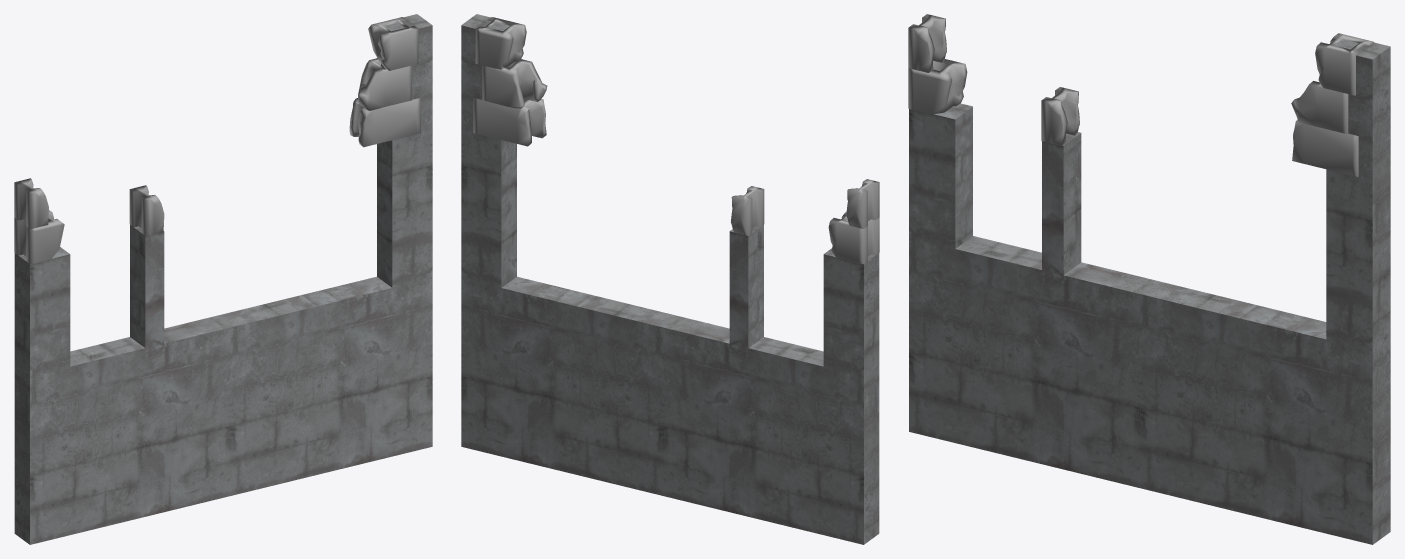
Rendered from wall_3window_01_Broken_02.fbx.
3 views of the same model, side by side, from view 1: azimuth 30°, elevation 25°; view 2: azimuth 150°, elevation 25°; view 3: azimuth 330°, elevation 25° (orthographic). The views are drawn at different scales.
Visible parts, largest first — view 1: wall_3window_01_Broken_02; view 2: wall_3window_01_Broken_02; view 3: wall_3window_01_Broken_02.
Part boxes in pixels (bbox=[...]): wall_3window_01_Broken_02: bbox=[14, 14, 432, 544]; wall_3window_01_Broken_02: bbox=[461, 14, 879, 544]; wall_3window_01_Broken_02: bbox=[908, 14, 1390, 544].
Bounding box in the file's own units: 300 × 300 × 20.94.
2 materials, 1 textured.
